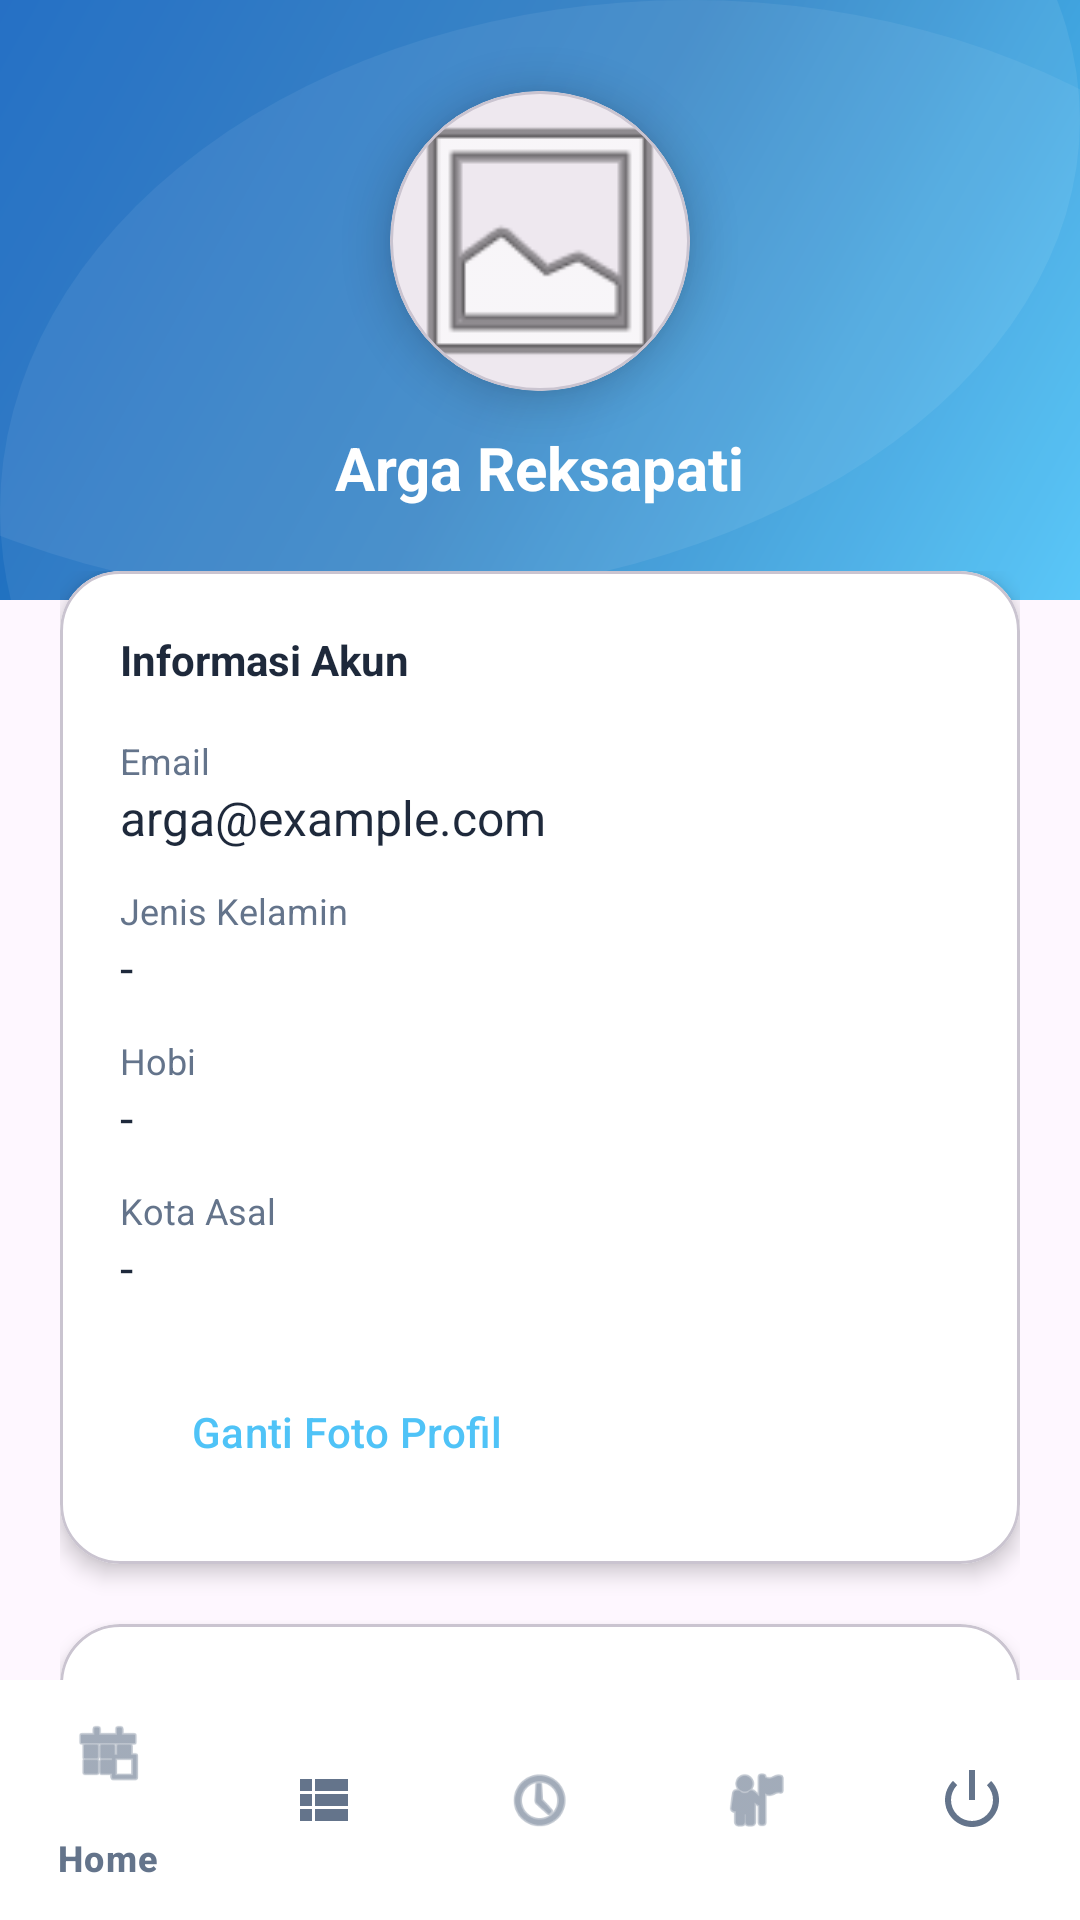

Screen size 1080px×1920px. Icon name, then its box in pixels as (x1, y1, x2, y2):
gallery: (390, 91, 690, 391)
